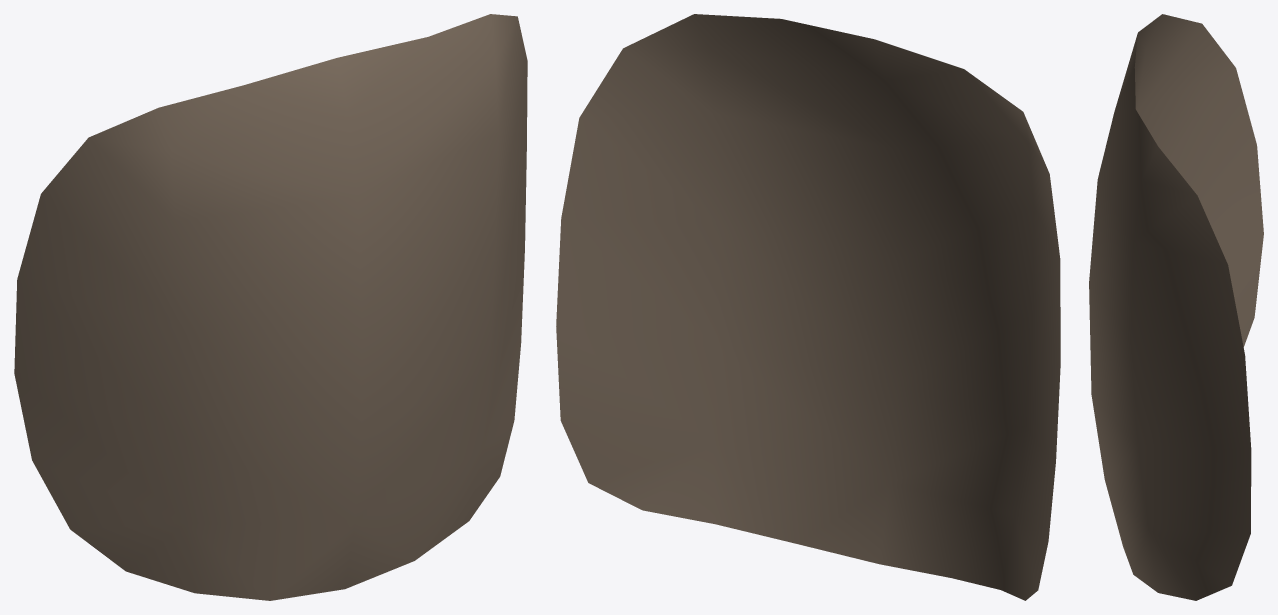
Rendered from MD_nail_FootR.Thumb.fbx.
3 renders of one model, left to right at view 1: azimuth 30°, elevation 25°; view 2: azimuth 150°, elevation 25°; view 3: azimuth 270°, elevation 25°, orthographic. The views are drawn at different scales.
Visible parts, largest first — view 1: MD_nail_FootR.Thumb; view 2: MD_nail_FootR.Thumb; view 3: MD_nail_FootR.Thumb.
Boxes of the visible parts, x1,y1,x2,y2 form: MD_nail_FootR.Thumb: (14,14,527,600); MD_nail_FootR.Thumb: (556,14,1060,600); MD_nail_FootR.Thumb: (1089,14,1263,600).
Bounding box in the file's own units: 1.08 × 1.08 × 0.3574.
